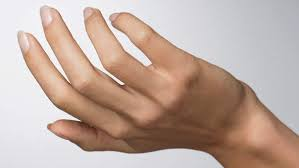hand: (3, 2, 249, 158)
